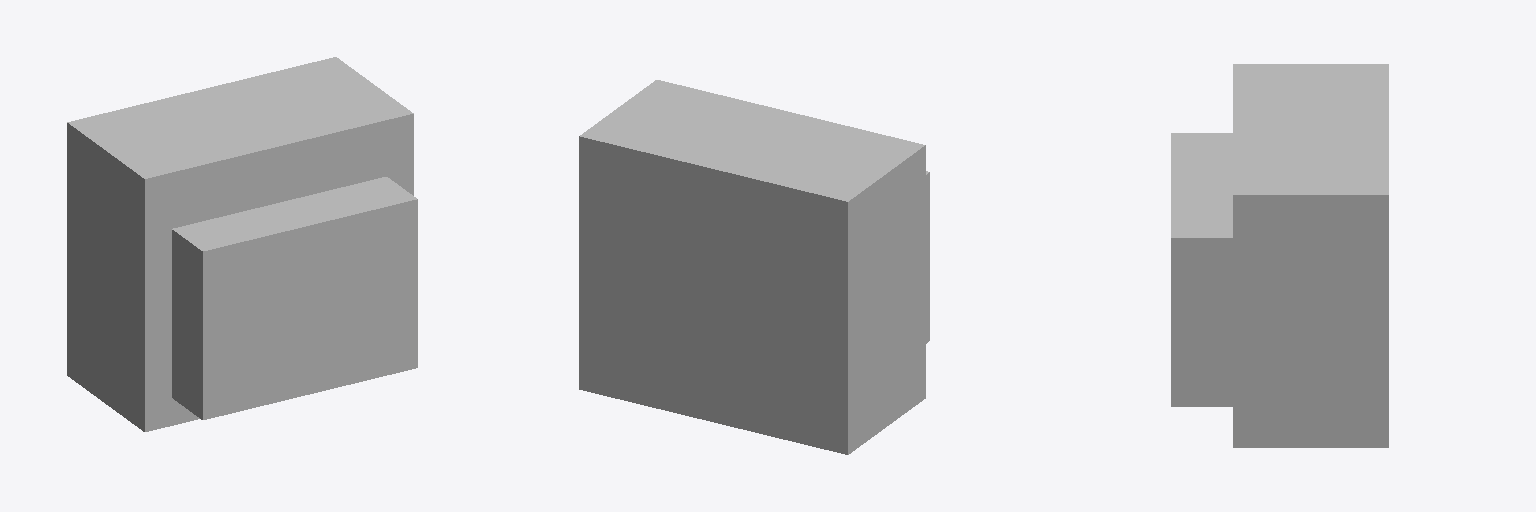
File: backpack_base.obj
3 views of the same model, side by side, from view 1: azimuth 30°, elevation 25°; view 2: azimuth 150°, elevation 25°; view 3: azimuth 270°, elevation 25° (orthographic).
Parts seen in each view (by area): view 1: body, front; view 2: body, front; view 3: body, front.
Part boxes in pixels (x1,y1,x2,y2): body: (67, 57, 413, 431); front: (172, 177, 417, 419); body: (579, 80, 925, 454); front: (926, 171, 929, 343); body: (1233, 64, 1388, 447); front: (1171, 133, 1232, 406).
Bounding box in the file's own units: 0.625 × 0.5625 × 0.4375.